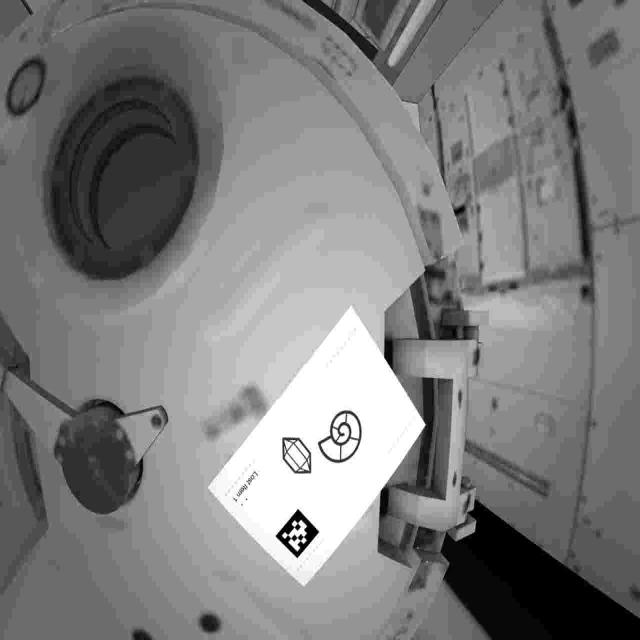crystal: (277, 433, 317, 482)
fossil: (316, 407, 372, 467)
